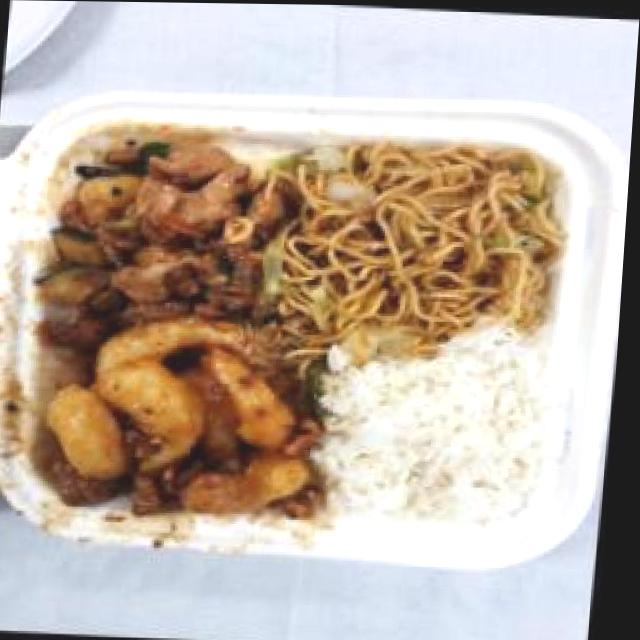Chow Mein: (280, 130, 576, 352)
Honey Walnut Shrimp: (30, 308, 342, 529)
Kung Pao Chicken: (33, 129, 293, 334)
White Steamed Rice: (321, 332, 571, 530)
